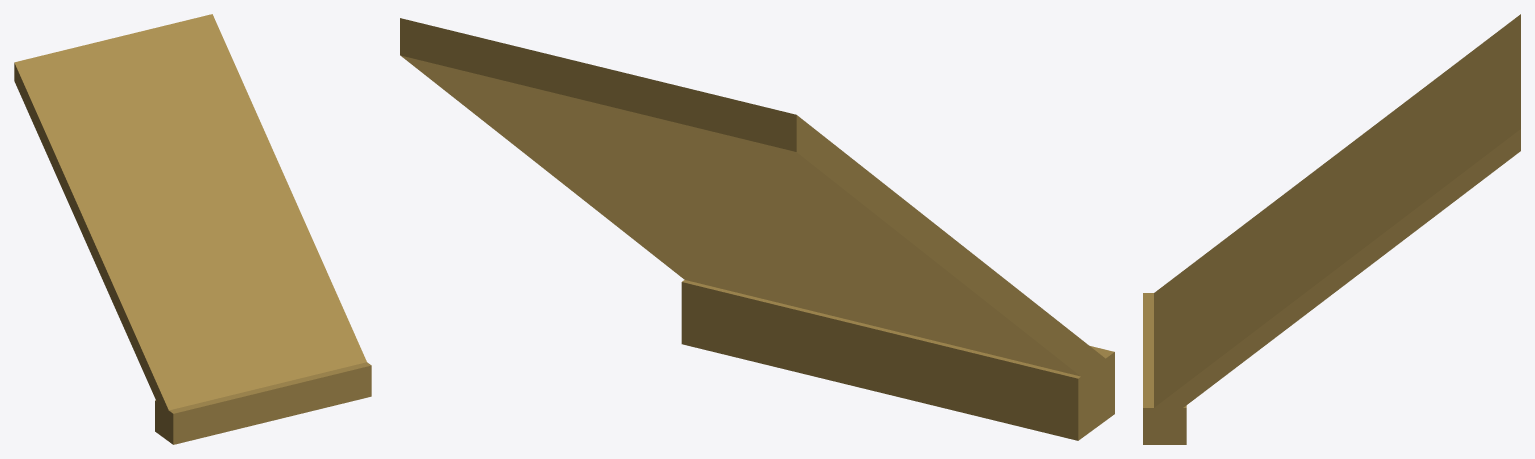
Rendered from RoofEave.fbx.
3 views of the same model, side by side, from view 1: azimuth 30°, elevation 25°; view 2: azimuth 150°, elevation 25°; view 3: azimuth 270°, elevation 25° (orthographic). The views are drawn at different scales.
Visible parts, largest first — view 1: Kit_RoofEave; view 2: Kit_RoofEave; view 3: Kit_RoofEave.
Part boxes in pixels (bbox=[...]): Kit_RoofEave: bbox=[14, 14, 371, 444]; Kit_RoofEave: bbox=[400, 18, 1114, 440]; Kit_RoofEave: bbox=[1143, 14, 1520, 444].
Bounding box in the file's own units: 1 × 1.28 × 1.39.
